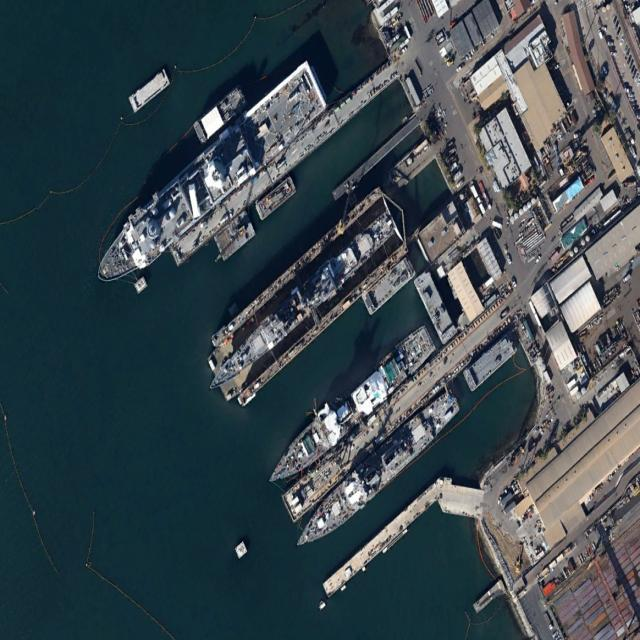Auxiliary Ships: (86, 59, 328, 299)
Cruiser: (202, 208, 398, 402)
Other Warship: (261, 320, 437, 498), (289, 383, 465, 560)
